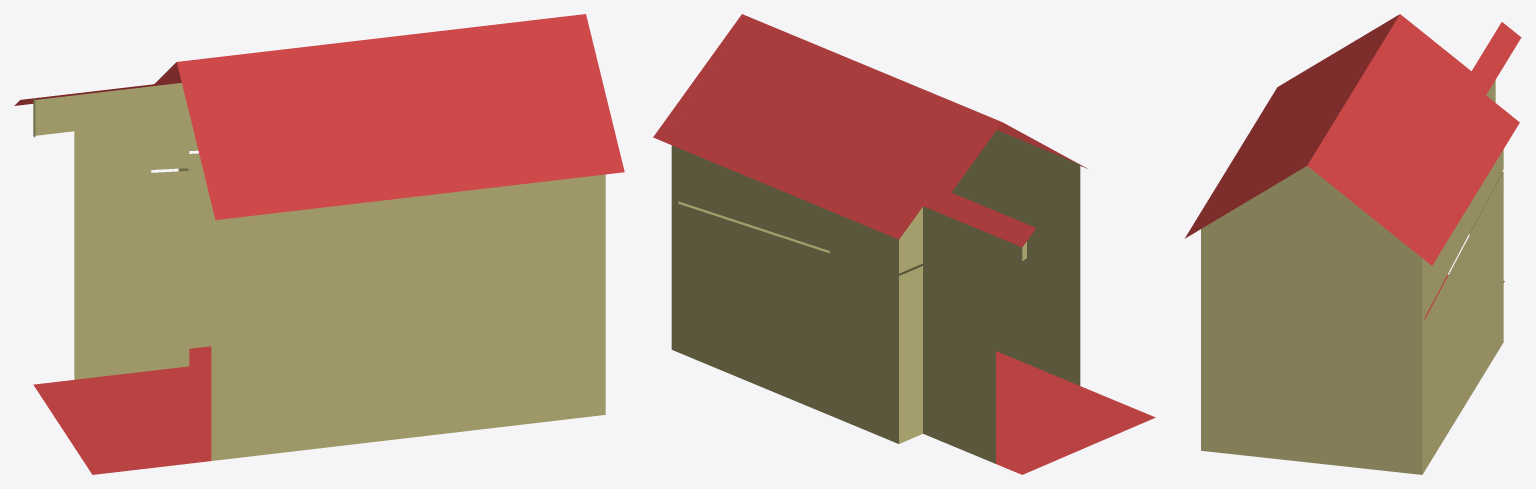
3 views of the same model, side by side, from view 1: azimuth 30°, elevation 25°; view 2: azimuth 150°, elevation 25°; view 3: azimuth 270°, elevation 25° (orthographic). The views are drawn at different scales.
Bounding box in the file's own units: 19.42 × 12.49 × 12.37.
